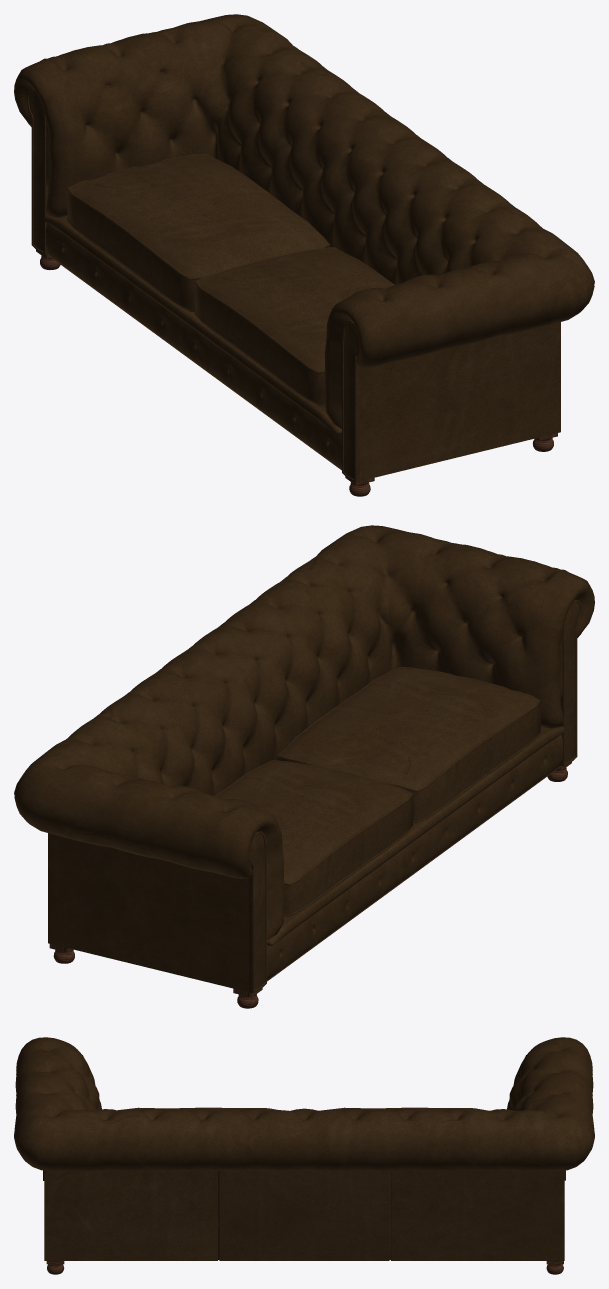
The model's file is Leather_Sofa_01.glb.
3 renders of one model, top to bottom at view 1: azimuth 30°, elevation 25°; view 2: azimuth 150°, elevation 25°; view 3: azimuth 270°, elevation 25°, orthographic. The views are drawn at different scales.
Parts seen in each view (by area): view 1: Leather_Sofa_01_GEO; view 2: Leather_Sofa_01_GEO; view 3: Leather_Sofa_01_GEO.
Boxes of the visible parts, x1,y1,x2,y2 form: Leather_Sofa_01_GEO: [14, 14, 594, 496]; Leather_Sofa_01_GEO: [14, 525, 594, 1008]; Leather_Sofa_01_GEO: [14, 1037, 594, 1274].
Bounding box in the file's own units: 0.6928 × 0.5439 × 1.77.
2 materials, 2 textured.
